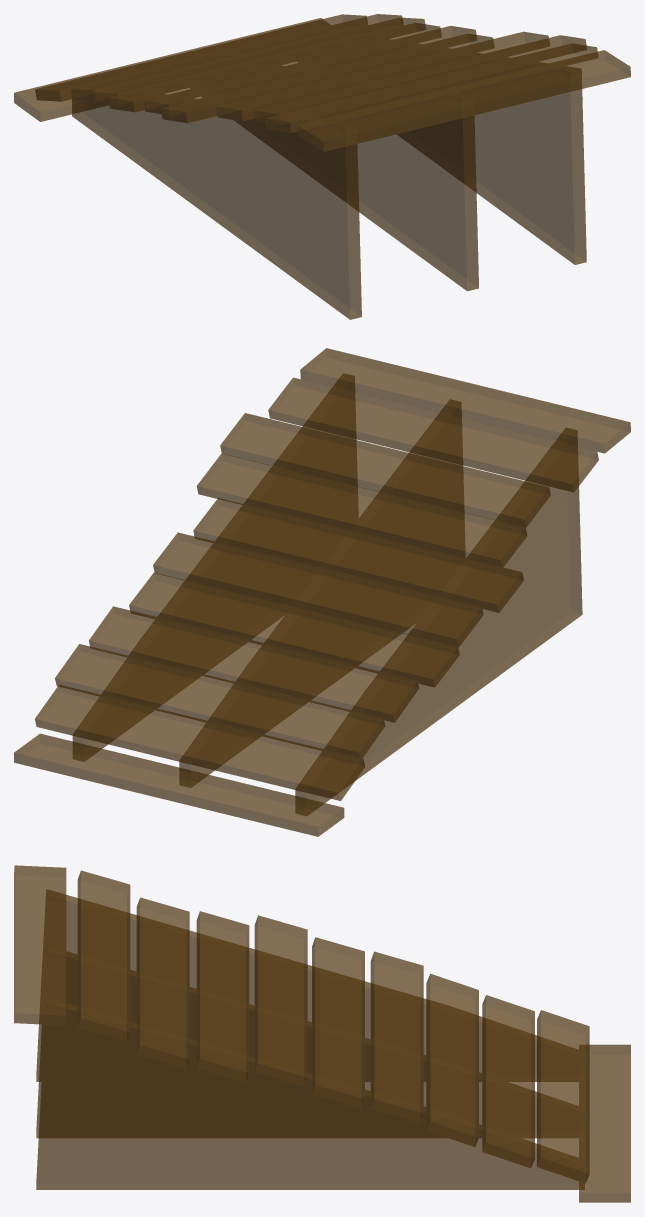
Rendered from slant_bridge_transparent.fbx.
The picture shows the model from 3 angles, top to bottom: view 1: azimuth 30°, elevation 25°; view 2: azimuth 150°, elevation 25°; view 3: azimuth 270°, elevation 25°; orthographic projection.
Visible parts, largest first — view 1: pCube14, pCube1, pCube13, pCube11, pCube6, pCube10, pCube5, pCube8, pCube7, pCube9, pCube4, pCube3 (+2 smaller); view 2: pCube14, pCube1, pCube13, pCube2, pCube4, pCube3, pCube10, pCube9, pCube6, pCube5, pCube8, pCube7 (+2 smaller); view 3: pCube13, pCube1, pCube14, pCube8, pCube10, pCube5, pCube7, pCube9, pCube3, pCube11, pCube4, pCube6 (+2 smaller).
Part boxes in pixels (box(x1,y1,x2,y2)): pCube14: box(72, 94, 361, 319); pCube1: box(190, 66, 478, 291); pCube13: box(298, 39, 586, 264); pCube11: box(297, 50, 630, 151); pCube6: box(143, 26, 476, 114); pCube10: box(265, 43, 597, 132); pCube5: box(108, 22, 441, 112); pCube8: box(216, 31, 549, 121); pCube7: box(161, 33, 493, 123); pCube9: box(253, 35, 586, 124); pCube4: box(92, 17, 425, 104); pCube3: box(70, 14, 402, 100); pCube14: box(295, 428, 582, 815); pCube1: box(179, 399, 464, 787); pCube13: box(72, 373, 357, 761); pCube2: box(35, 684, 365, 800); pCube4: box(89, 606, 419, 722); pCube3: box(55, 644, 385, 759); pCube10: box(268, 377, 598, 492); pCube9: box(220, 413, 550, 527); pCube6: box(153, 532, 483, 647); pCube5: box(129, 572, 459, 687); pCube8: box(196, 453, 527, 567); pCube7: box(193, 498, 523, 612); pCube13: box(36, 997, 584, 1189); pCube1: box(36, 945, 584, 1138); pCube14: box(36, 889, 584, 1081); pCube8: box(196, 911, 249, 1082); pCube10: box(77, 870, 130, 1041); pCube5: box(370, 951, 423, 1122); pCube7: box(254, 915, 307, 1086); pCube9: box(136, 897, 189, 1068); pCube3: box(482, 995, 534, 1168); pCube11: box(14, 865, 66, 1025); pCube4: box(426, 973, 478, 1146); pCube6: box(312, 937, 364, 1108).
Size of the model in its own units: 7.45 by 4.09 by 11.87.
